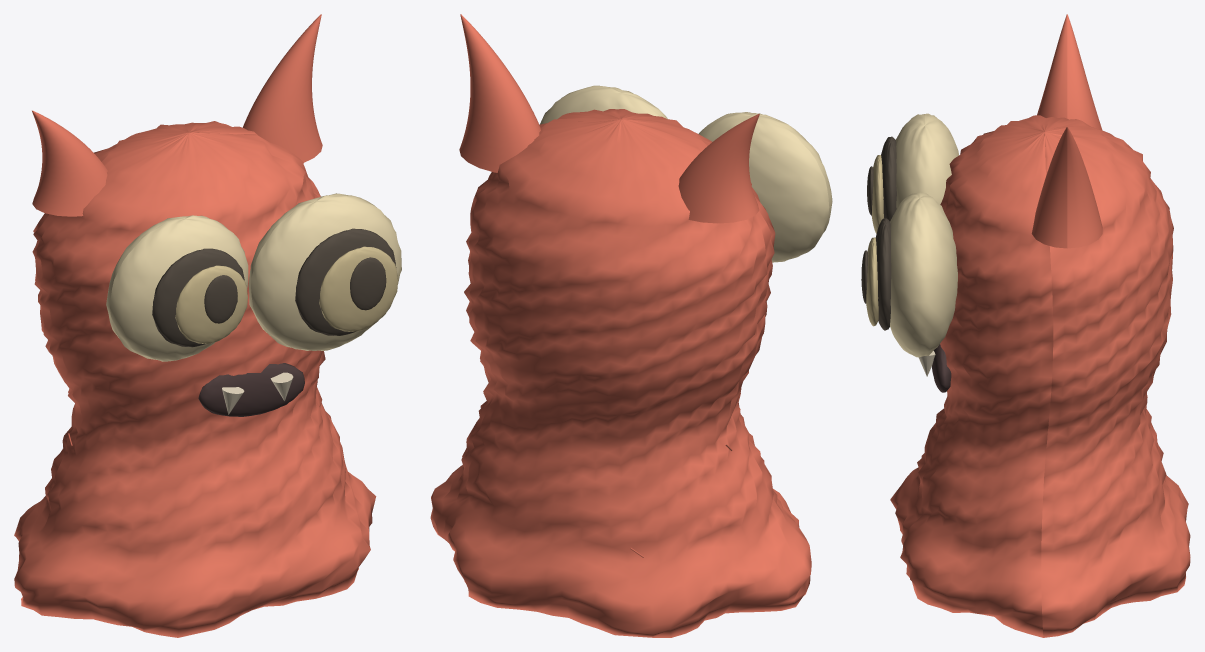
The model's file is ember-v002.glb.
3 views of the same model, side by side, from view 1: azimuth 30°, elevation 25°; view 2: azimuth 150°, elevation 25°; view 3: azimuth 270°, elevation 25° (orthographic). The views are drawn at different scales.
Visible parts, largest first — view 1: Single sculpted body with puddled scallop hem, Hand pressed oversized cream eye (×2), Crooked clay devil horn (×2), Uneven clay button iris (×2), Dark recessed eye rim (×2), Lopsided impish grin, Off-center handmade pupil (×2); view 2: Single sculpted body with puddled scallop hem, Crooked clay devil horn (×2), Hand pressed oversized cream eye (×2); view 3: Single sculpted body with puddled scallop hem, Hand pressed oversized cream eye (×2), Crooked clay devil horn (×2), Dark recessed eye rim (×2), Uneven clay button iris (×2), Lopsided impish grin.
Boxes of the visible parts, x1,y1,x2,y2 form: Single sculpted body with puddled scallop hem: (14,121,376,637); Hand pressed oversized cream eye (×2): (106,193,401,361); Crooked clay devil horn (×2): (32,14,322,216); Uneven clay button iris (×2): (175,246,397,343); Dark recessed eye rim (×2): (152,228,396,347); Lopsided impish grin: (198,363,304,416); Off-center handmade pupil (×2): (204,257,386,323); Single sculpted body with puddled scallop hem: (430,109,811,637); Crooked clay devil horn (×2): (459,14,759,223); Hand pressed oversized cream eye (×2): (540,85,832,262); Single sculpted body with puddled scallop hem: (890,115,1190,637); Hand pressed oversized cream eye (×2): (890,113,958,357); Crooked clay devil horn (×2): (1031,14,1102,248); Dark recessed eye rim (×2): (875,136,896,330); Uneven clay button iris (×2): (866,155,883,326); Lopsided impish grin: (932,344,951,392).
Size of the model in its own units: 0.7985 by 1.09 by 0.6572.
